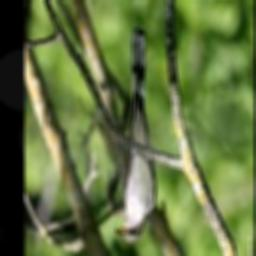Cuckoo: (114, 27, 155, 241)
